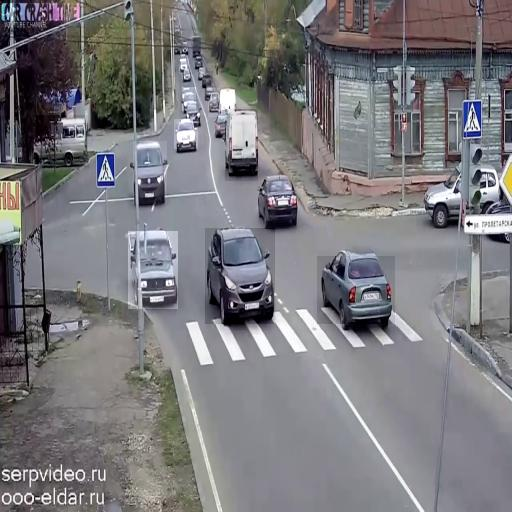小汽车: (206, 228, 276, 324), (318, 256, 396, 324), (426, 163, 502, 225), (128, 231, 178, 309), (36, 115, 88, 164), (225, 110, 258, 182), (133, 141, 167, 204), (174, 119, 198, 149), (208, 88, 223, 117), (182, 87, 196, 111), (191, 33, 205, 57), (202, 71, 213, 88), (179, 59, 189, 74)
